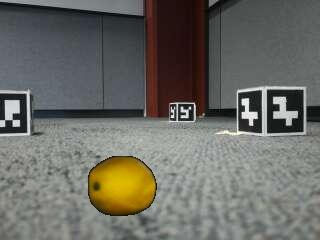lemon: (89, 158, 155, 217)
